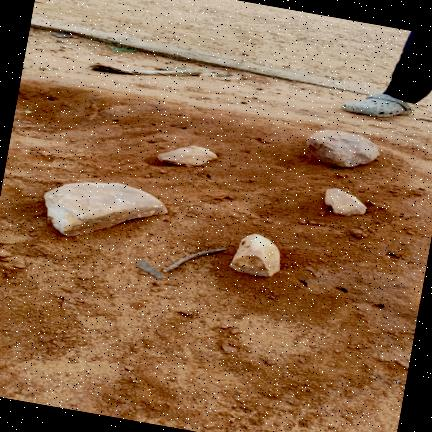Rocks: (44, 183, 165, 236), (306, 130, 377, 168), (229, 234, 279, 276), (324, 188, 365, 216), (157, 146, 216, 165), (348, 229, 366, 239), (221, 345, 236, 353), (0, 250, 10, 258)
